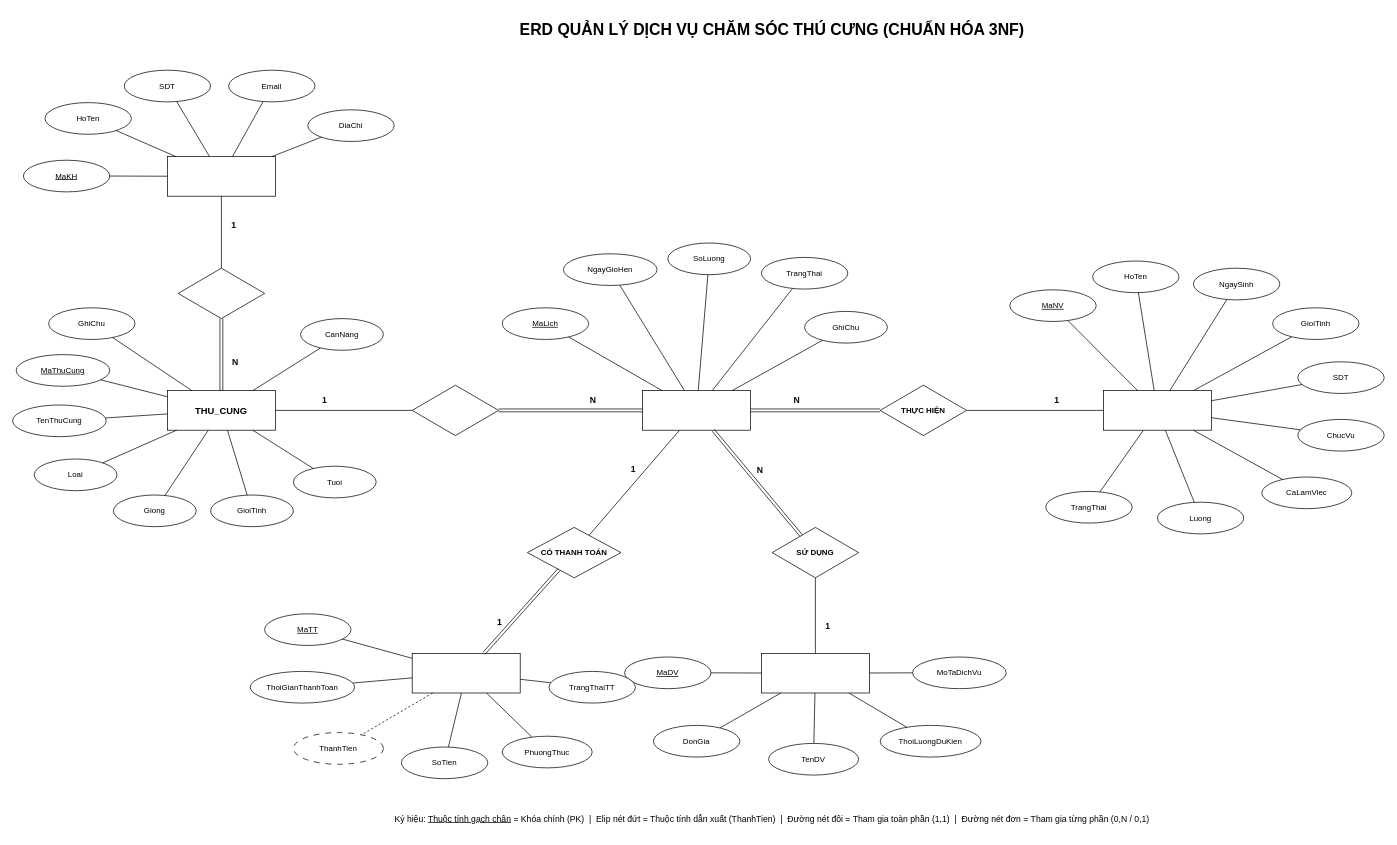
This 1397x845 diagram has some shape labels left out. Each missing label, with the centre of its shape:
CÓ LỊCH: (x=455, y=410)
DICH_VU: (x=815, y=673)
KHACH_HANG: (x=221, y=176)
LICH_HEN: (x=696, y=410)
NHAN_VIEN: (x=1157, y=410)
SỞ HỮU: (x=221, y=293)
THANH_TOAN: (x=465, y=673)
